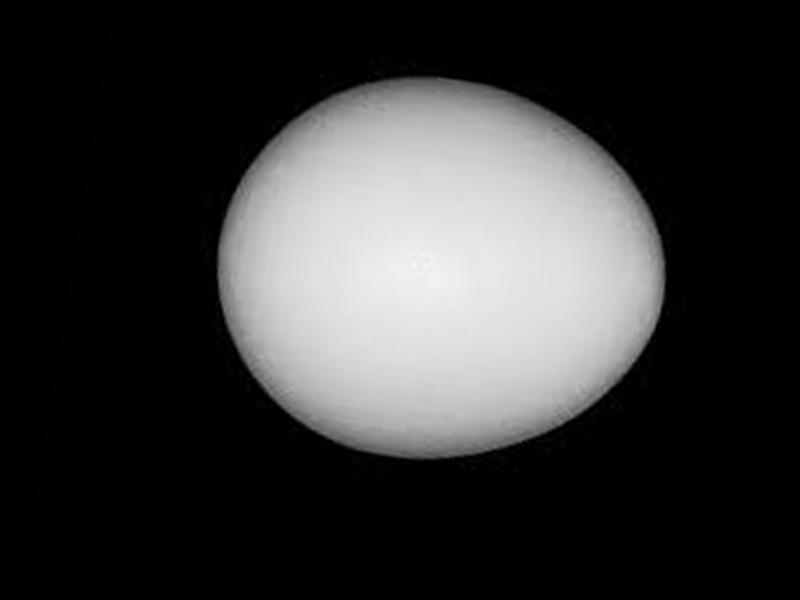Eggs: (193, 47, 688, 492)
